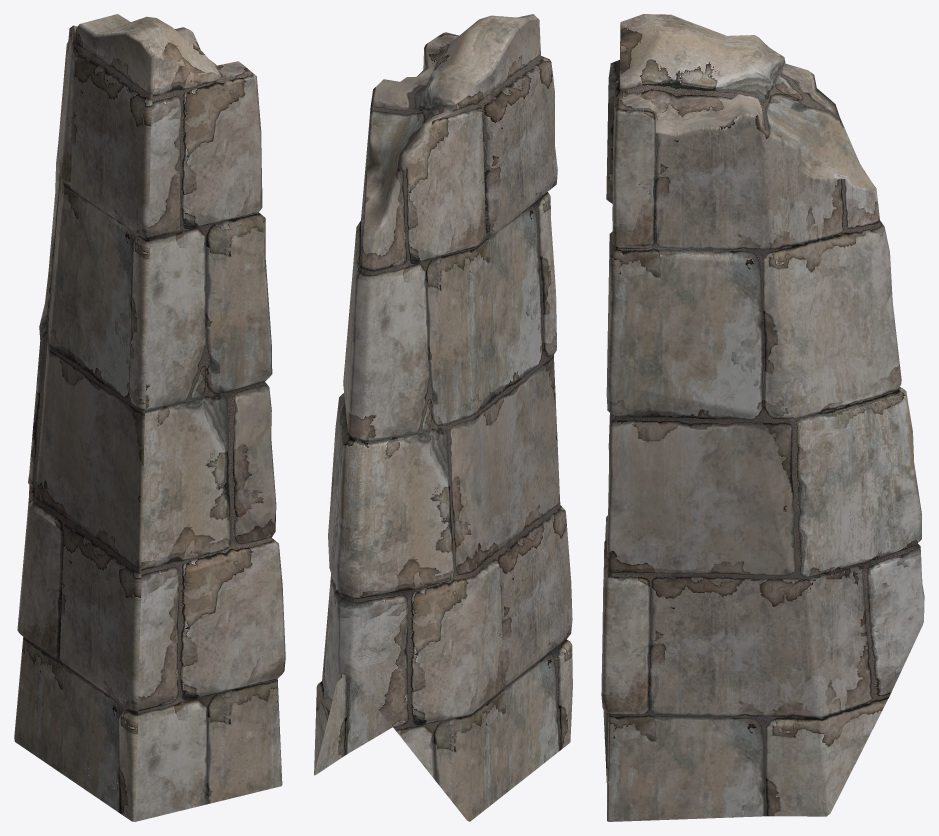
The picture shows the model from 3 angles, left to right: view 1: azimuth 30°, elevation 25°; view 2: azimuth 150°, elevation 25°; view 3: azimuth 270°, elevation 25°; orthographic projection. The views are drawn at different scales.
Visible parts, largest first — view 1: SM_Dragons_Bridge_Pillar_Top_01_LOD0; view 2: SM_Dragons_Bridge_Pillar_Top_01_LOD0; view 3: SM_Dragons_Bridge_Pillar_Top_01_LOD0.
Part boxes in pixels (left/top/right/bottom): SM_Dragons_Bridge_Pillar_Top_01_LOD0: left=14, top=14, right=285, bottom=821; SM_Dragons_Bridge_Pillar_Top_01_LOD0: left=314, top=14, right=572, bottom=821; SM_Dragons_Bridge_Pillar_Top_01_LOD0: left=601, top=14, right=924, bottom=821.
Bounding box in the file's own units: 2.64 × 11.71 × 4.58.
1 material, 1 textured.
